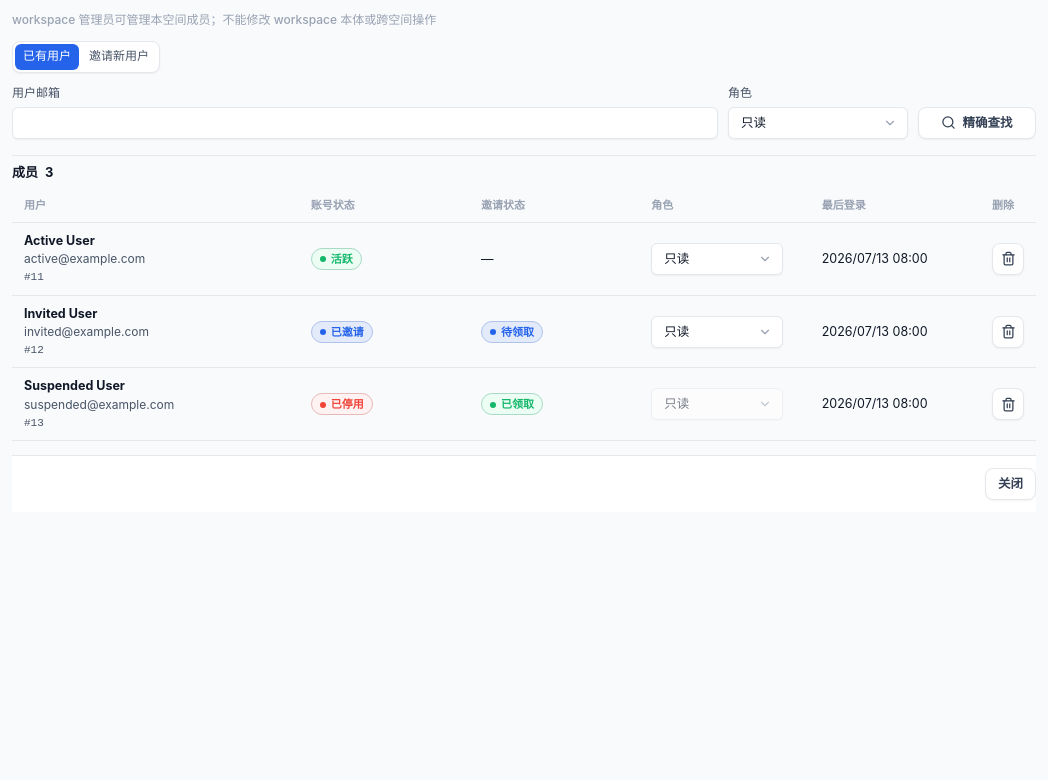
Test: WorkspaceMembersPanel › does not silently invite a suspended resolved user
Expected: the text "Active User" is shown, [24, 233, 95, 248]
Type "blocked@example.com" into the field named "用户邮箱" at (365, 123), box [12, 107, 718, 139]
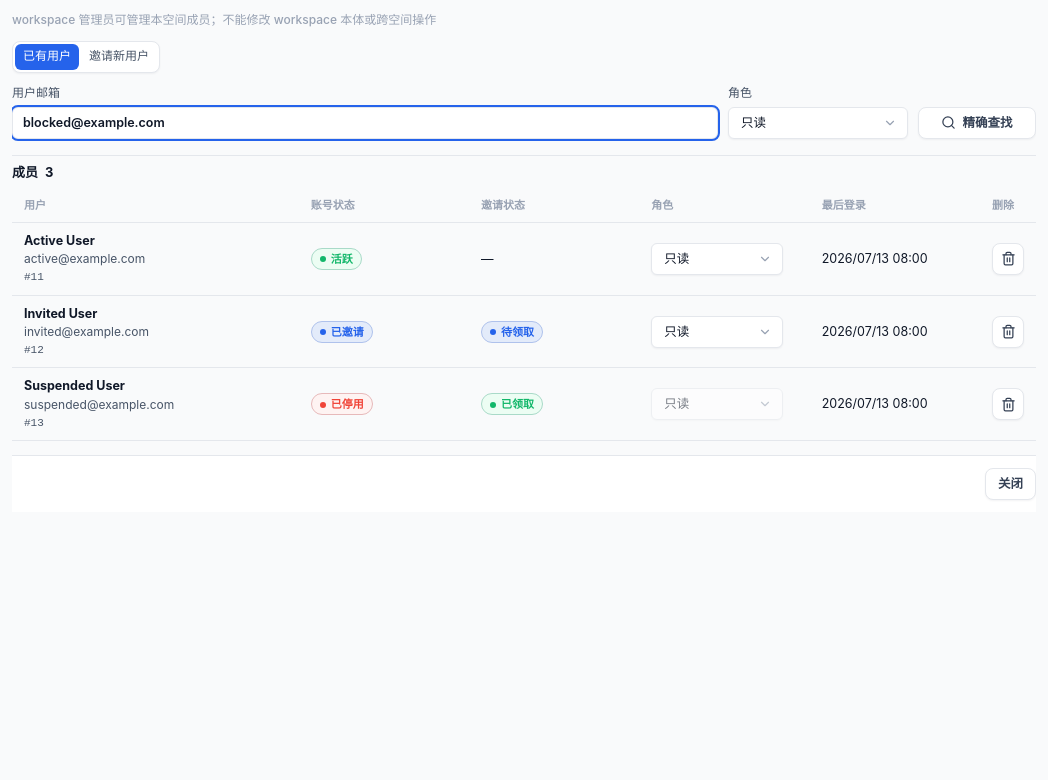
Click the button "精确查找" at (977, 123), box [918, 107, 1036, 139]
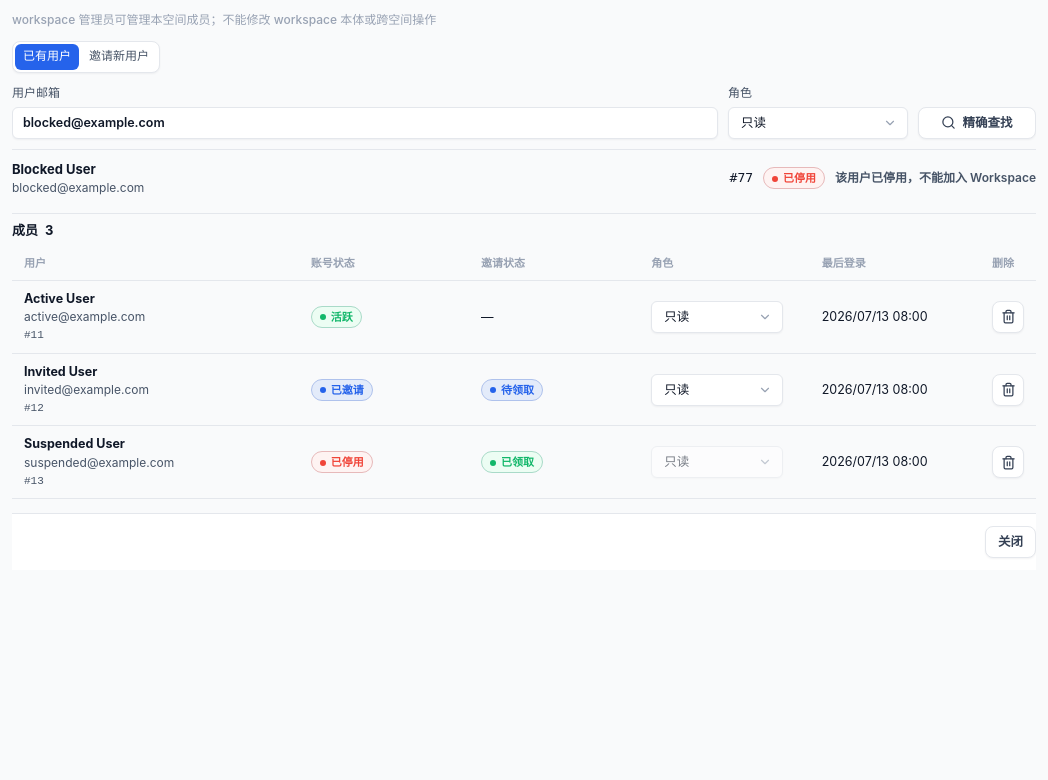
Expected: the text "该用户已停用，不能加入 Workspace" is shown, [835, 170, 1036, 186]
